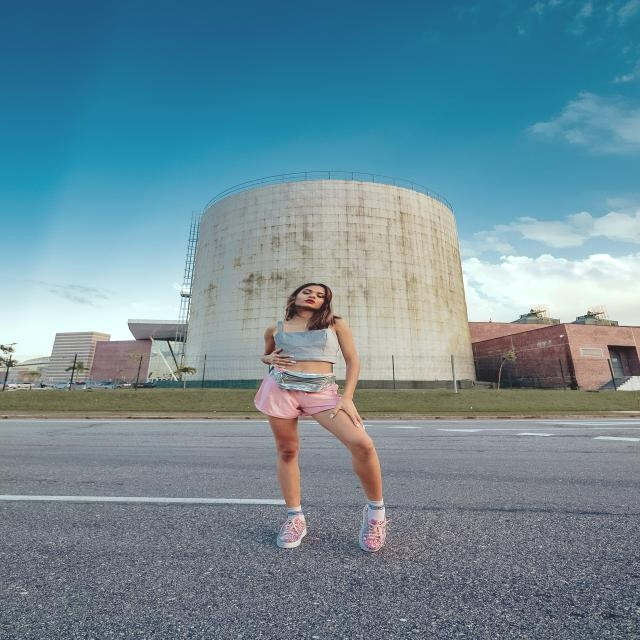Crop_Top: (273, 334, 339, 373)
Shorts: (252, 366, 383, 496)
Sleeveless: (330, 315, 351, 331), (263, 323, 279, 337)
low_neckline: (276, 316, 333, 360)
